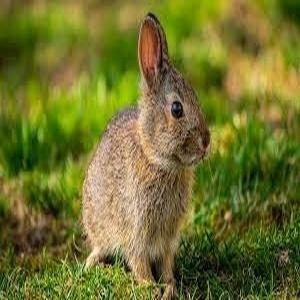rabbit: (82, 14, 207, 300)
